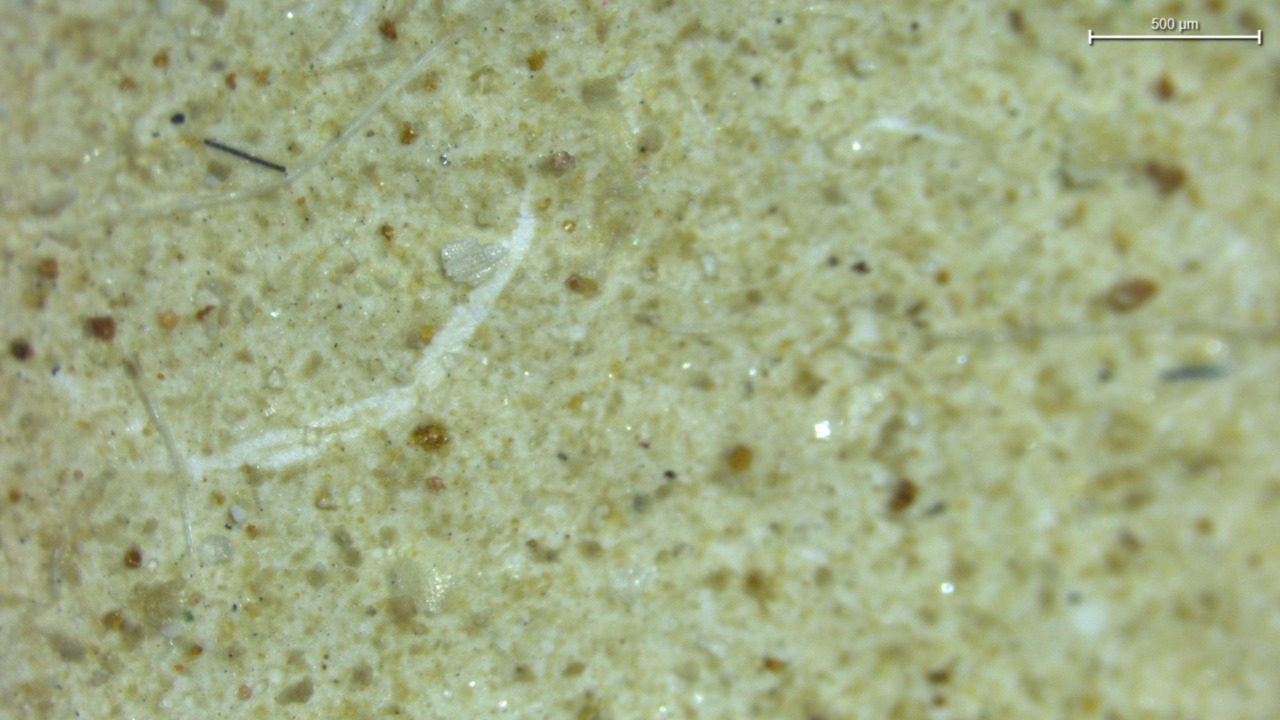microplastic_fragment: (440, 239, 508, 285), (230, 505, 247, 524)
